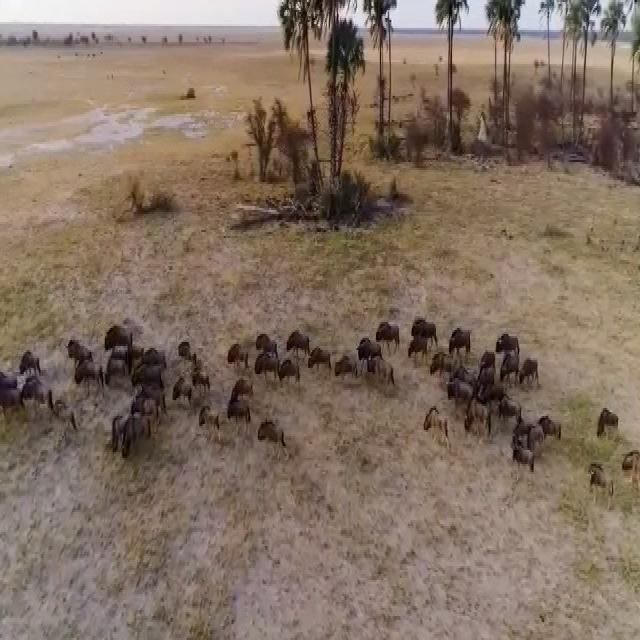Wildebeast: (420, 396, 459, 457), (255, 407, 292, 469), (118, 410, 154, 460), (513, 436, 538, 501), (590, 406, 626, 450), (374, 310, 402, 366), (96, 318, 132, 360), (590, 465, 619, 512), (366, 356, 400, 396), (226, 390, 254, 438), (49, 394, 74, 446), (59, 332, 94, 366), (447, 373, 477, 412), (449, 319, 474, 364), (539, 413, 569, 448), (170, 375, 195, 416), (196, 403, 219, 447), (409, 336, 434, 376), (74, 362, 105, 394), (309, 344, 332, 386), (495, 327, 519, 365), (17, 344, 42, 380), (357, 323, 378, 364), (412, 316, 445, 342), (131, 368, 168, 391), (619, 442, 640, 482), (284, 325, 308, 360), (337, 356, 362, 389), (524, 346, 538, 403), (278, 356, 302, 389), (258, 356, 278, 395), (16, 380, 44, 405), (432, 347, 451, 381), (178, 339, 198, 368), (481, 388, 506, 410), (480, 349, 498, 378), (230, 348, 254, 368), (197, 362, 214, 385)
